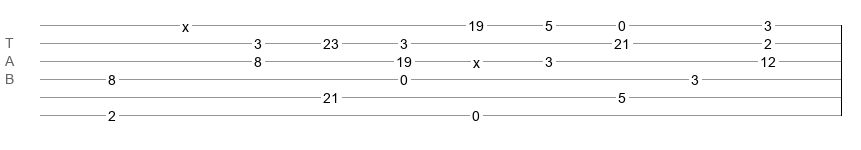0: (400, 72, 408, 82), (472, 108, 480, 118), (618, 18, 626, 28)
12: (760, 54, 776, 64)
19: (396, 54, 412, 64), (468, 18, 484, 28)
2: (108, 108, 116, 118), (764, 36, 772, 46)
21: (323, 90, 339, 100), (614, 36, 630, 46)
23: (323, 36, 339, 46)
3: (254, 36, 262, 46), (400, 36, 408, 46), (545, 54, 553, 64), (691, 72, 699, 82), (764, 18, 772, 28)
5: (545, 18, 553, 28), (618, 90, 626, 100)
8: (108, 72, 116, 82), (254, 54, 262, 64)
x: (182, 19, 189, 27), (473, 55, 480, 63)
